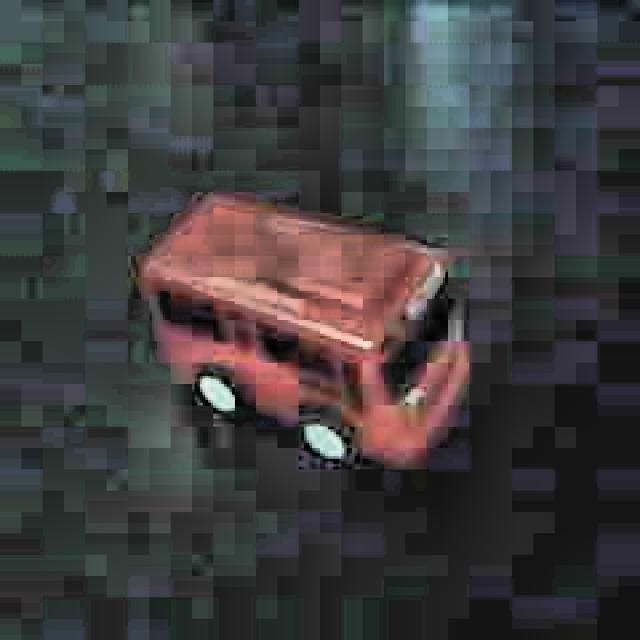bus: (125, 171, 491, 489)
